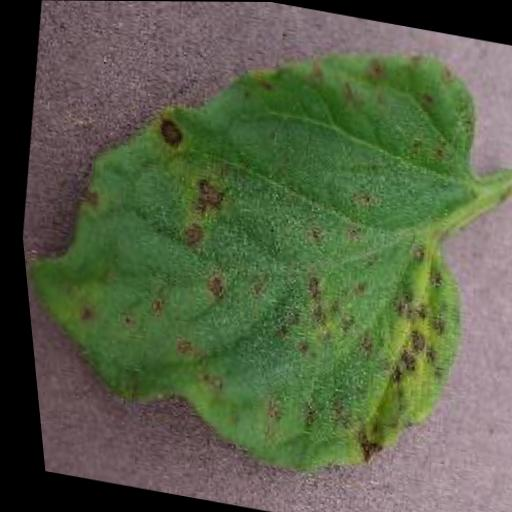Septoria: (0, 0, 512, 500)
